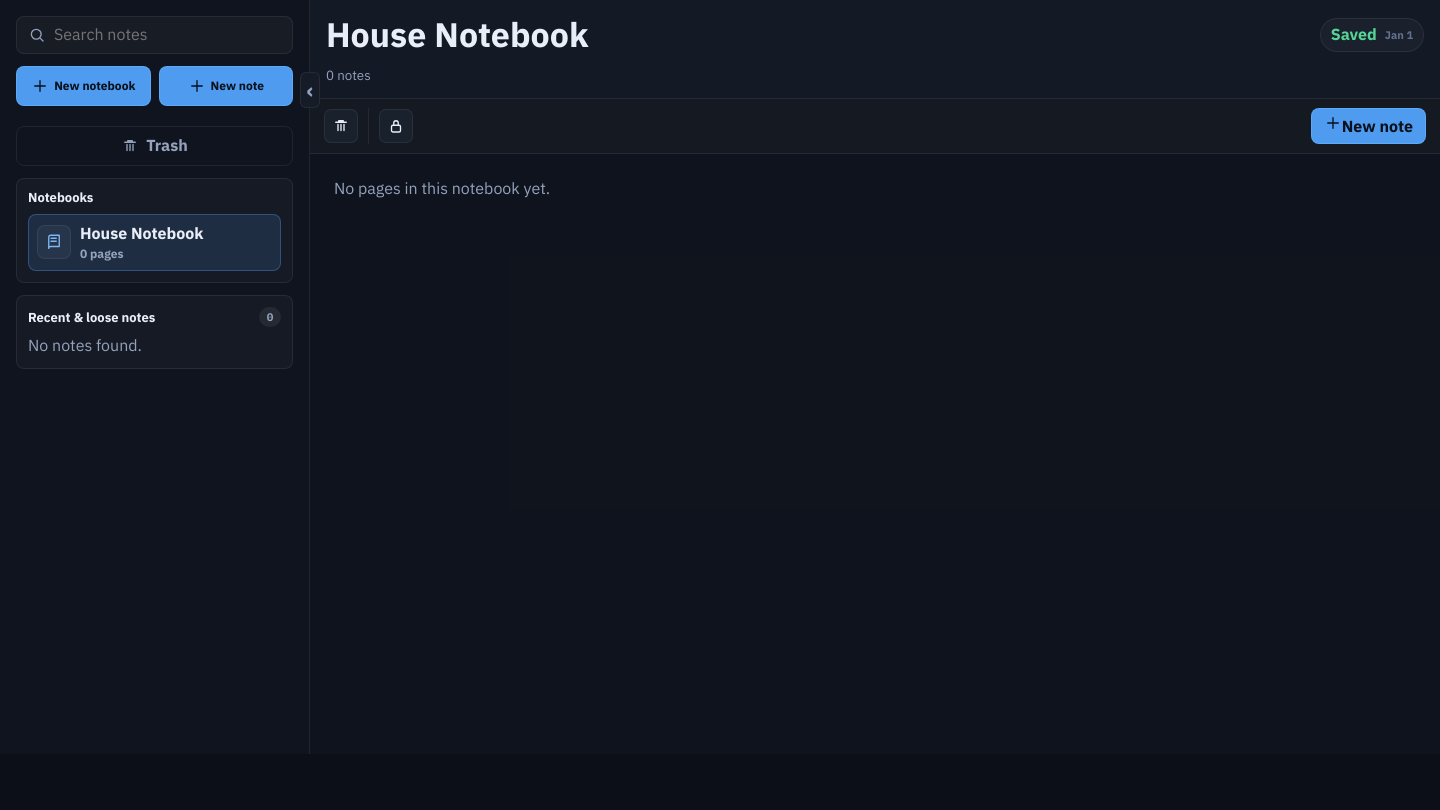
ProfileNotesPage › creates a durable child note inside a cached notebook
This screenshot has width=1440, height=810.
Step 1. Click the button with aria-label "New note in House Notebook" → (1368, 126), box [1311,108,1426,144]
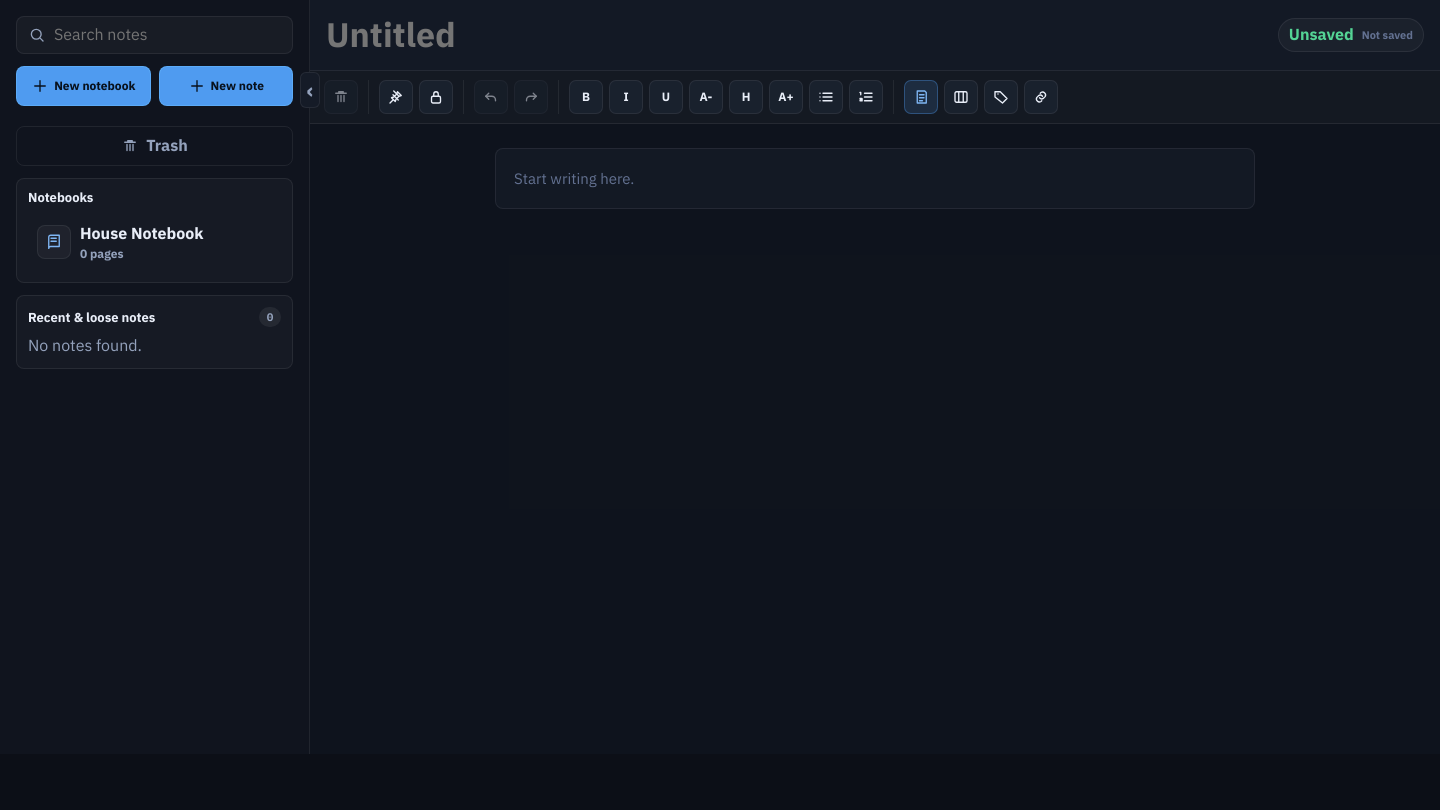
Step 2. Type "Roof plan" into the field named "Note title" → (797, 35), box [326,14,1268,56]
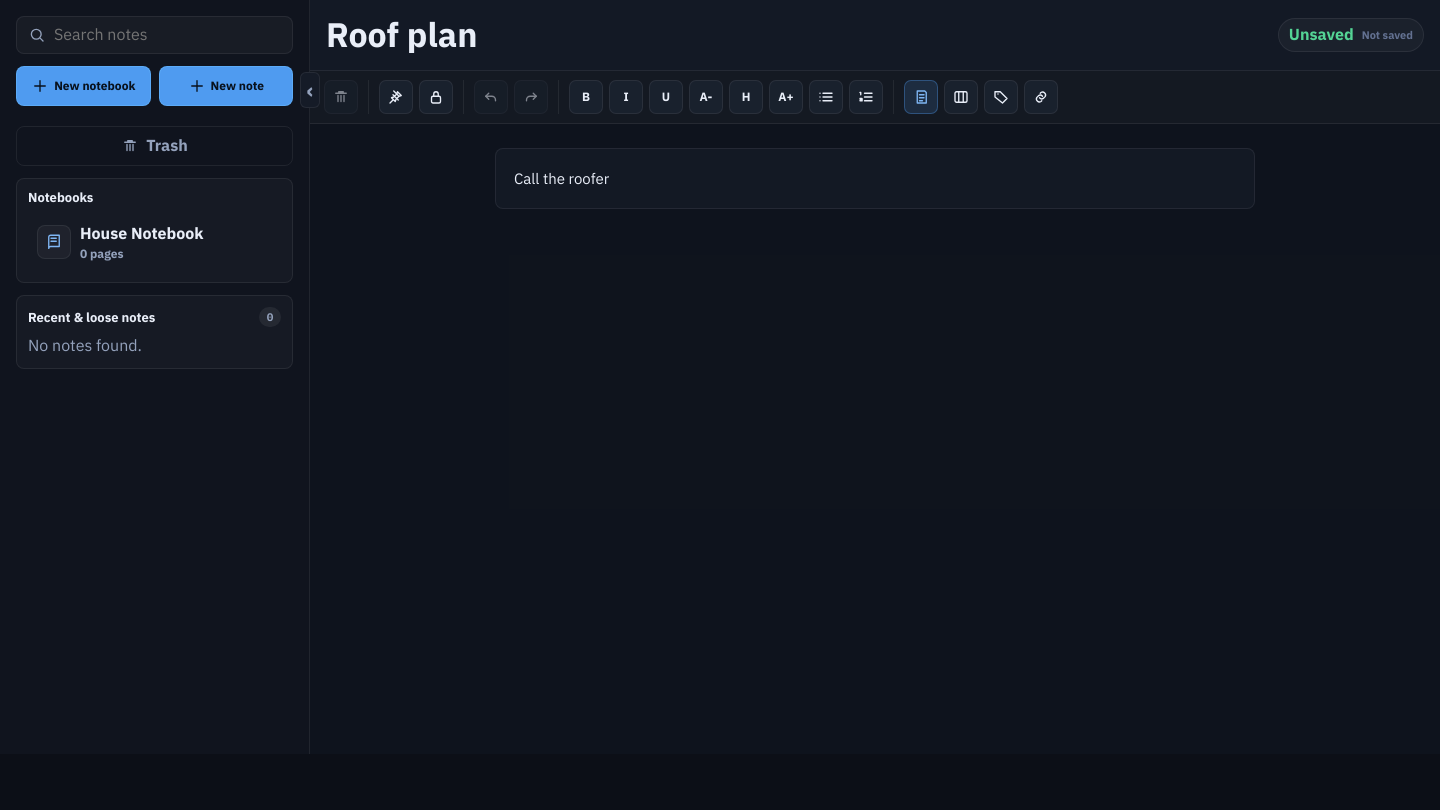
Step 3. Clear the field named "Note body" → (875, 179), box [495,148,1255,209]
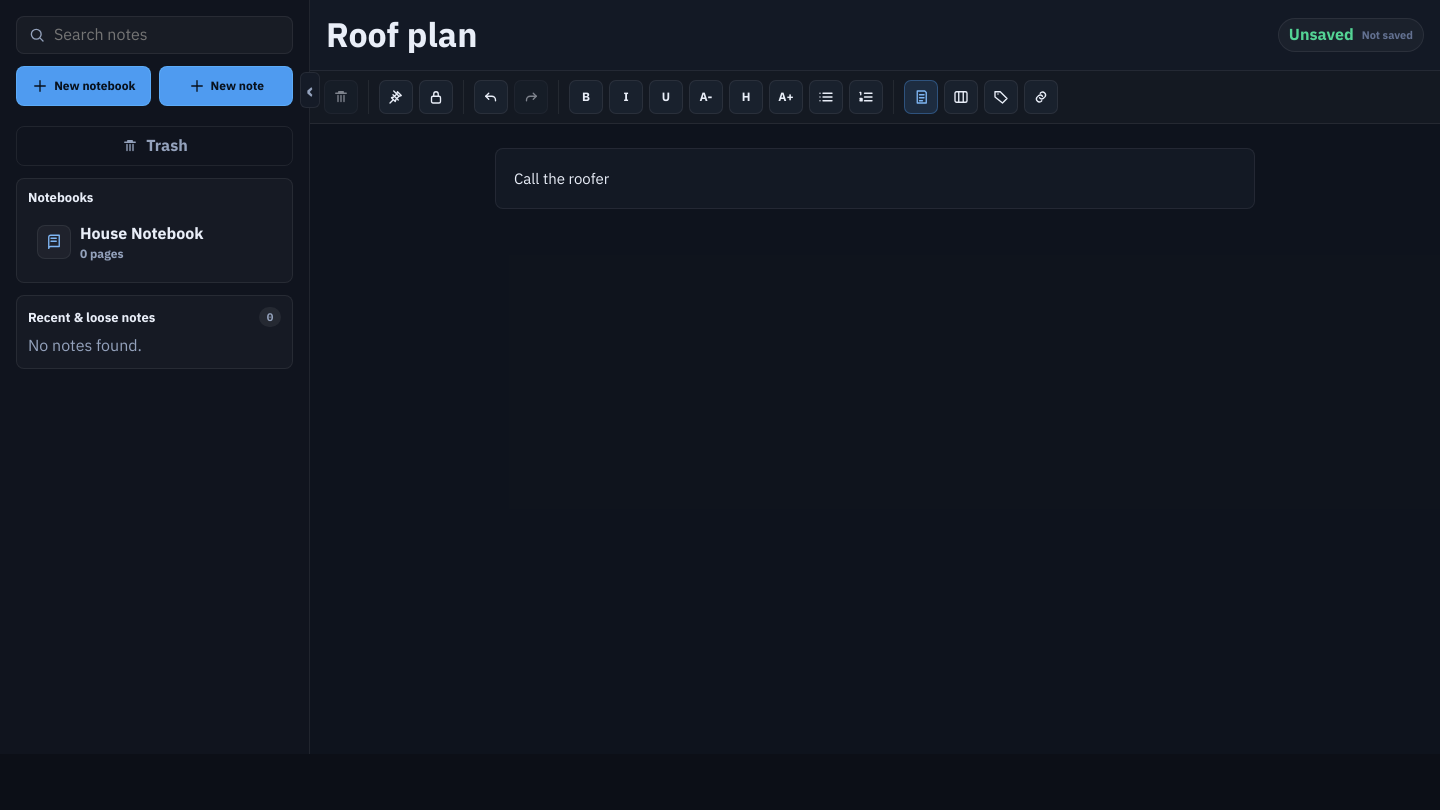
Step 4. Click the button with aria-label "Save note" → (1351, 35), box [1278,18,1424,52]
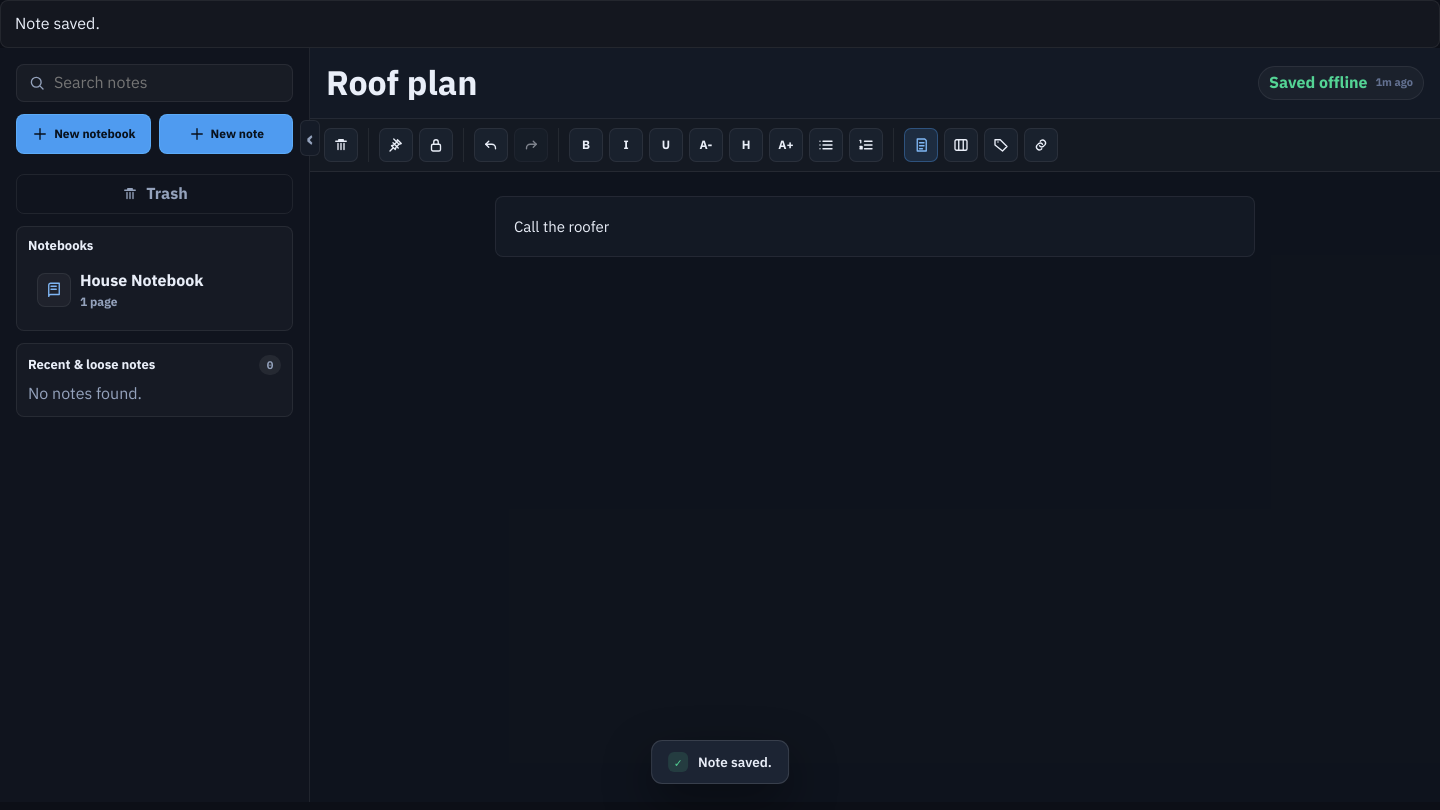
Result: the text "Saved offline" is shown at [1269,72,1368,93]
